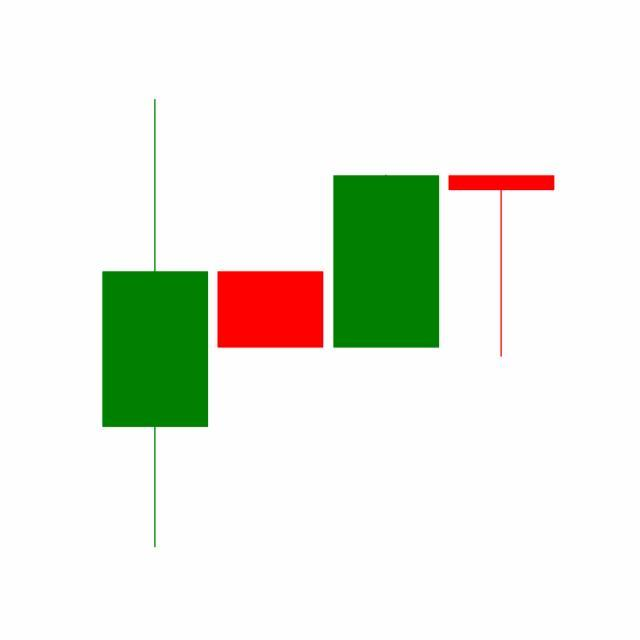Hanging Man: (444, 174, 560, 360)
